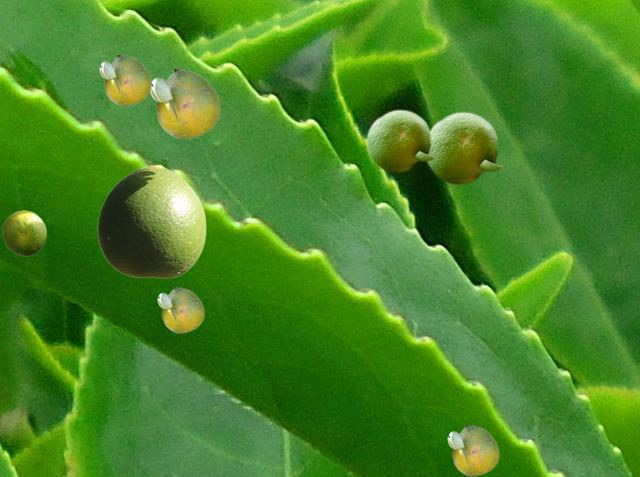dalandan: (97, 165, 205, 277), (426, 110, 503, 184), (150, 69, 219, 138), (365, 108, 435, 172), (99, 55, 150, 105), (447, 425, 498, 475), (157, 287, 203, 332), (2, 210, 45, 255)
